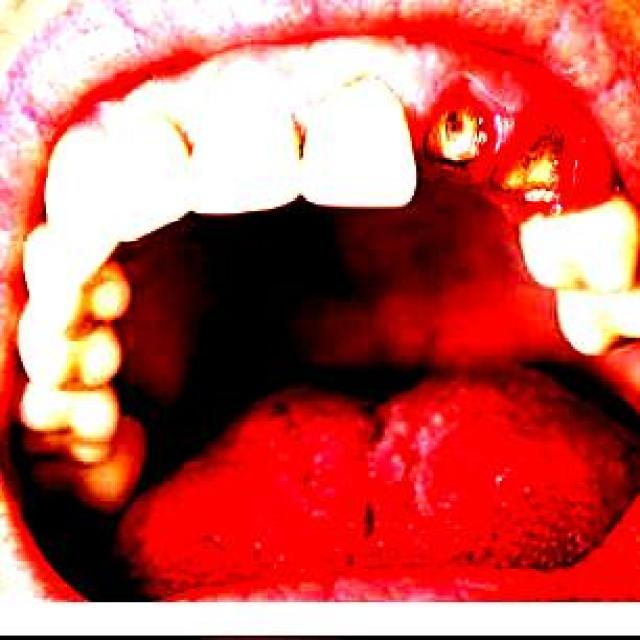caries: (425, 103, 492, 168)
